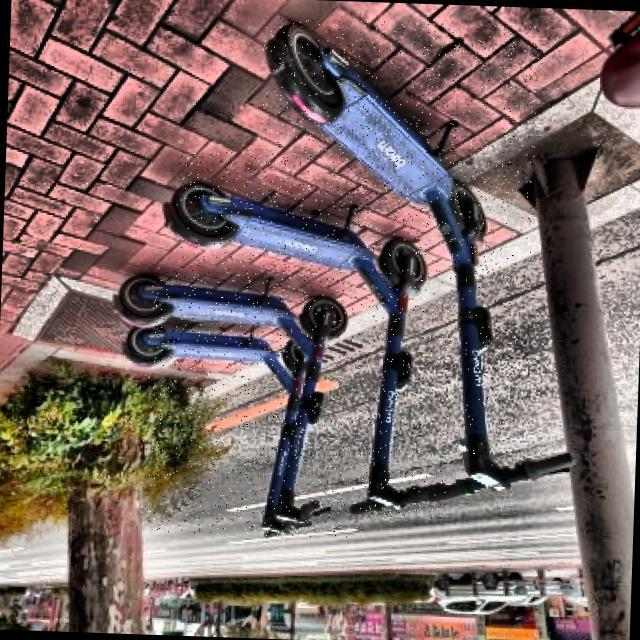bike: (115, 180, 427, 530)
